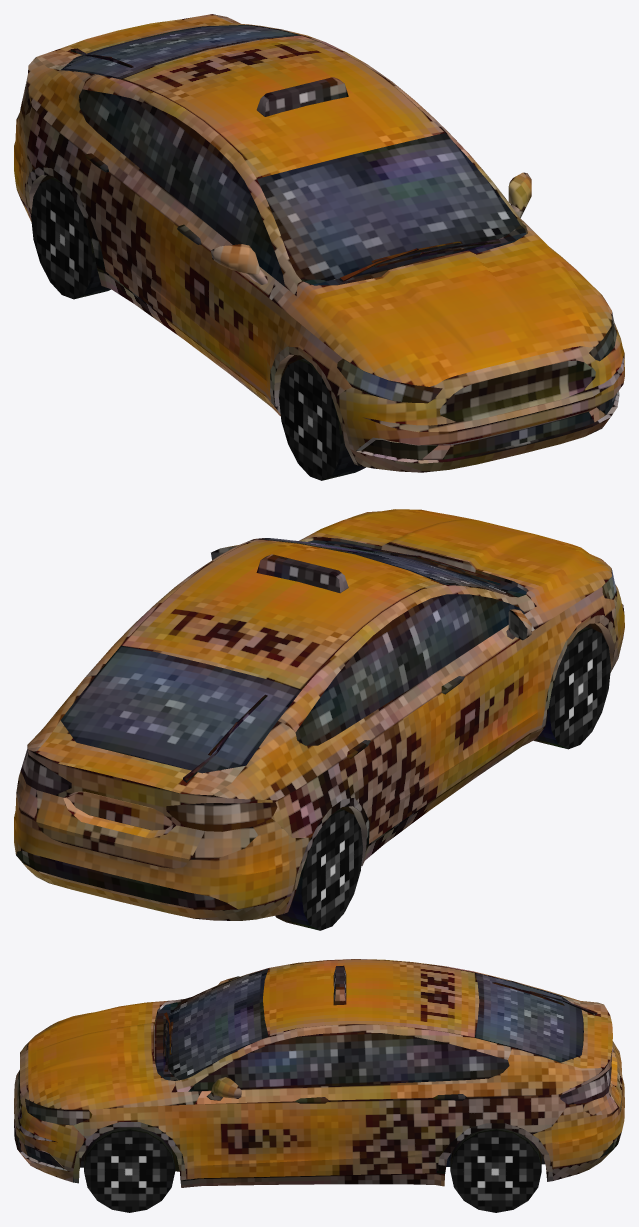
File: TAXI.fbx
3 views of the same model, one above another, from view 1: azimuth 30°, elevation 25°; view 2: azimuth 150°, elevation 25°; view 3: azimuth 270°, elevation 25° (orthographic). The views are drawn at different scales.
Visible parts, largest first — view 1: Mondeo_Taxi; view 2: Mondeo_Taxi; view 3: Mondeo_Taxi.
Boxes of the visible parts, left/top/right/bottom form: Mondeo_Taxi: left=14, top=14, right=624, bottom=480; Mondeo_Taxi: left=14, top=509, right=624, bottom=930; Mondeo_Taxi: left=14, top=959, right=624, bottom=1212.
Size of the model in its own units: 248 by 188 by 560.
1 material, 1 textured.
